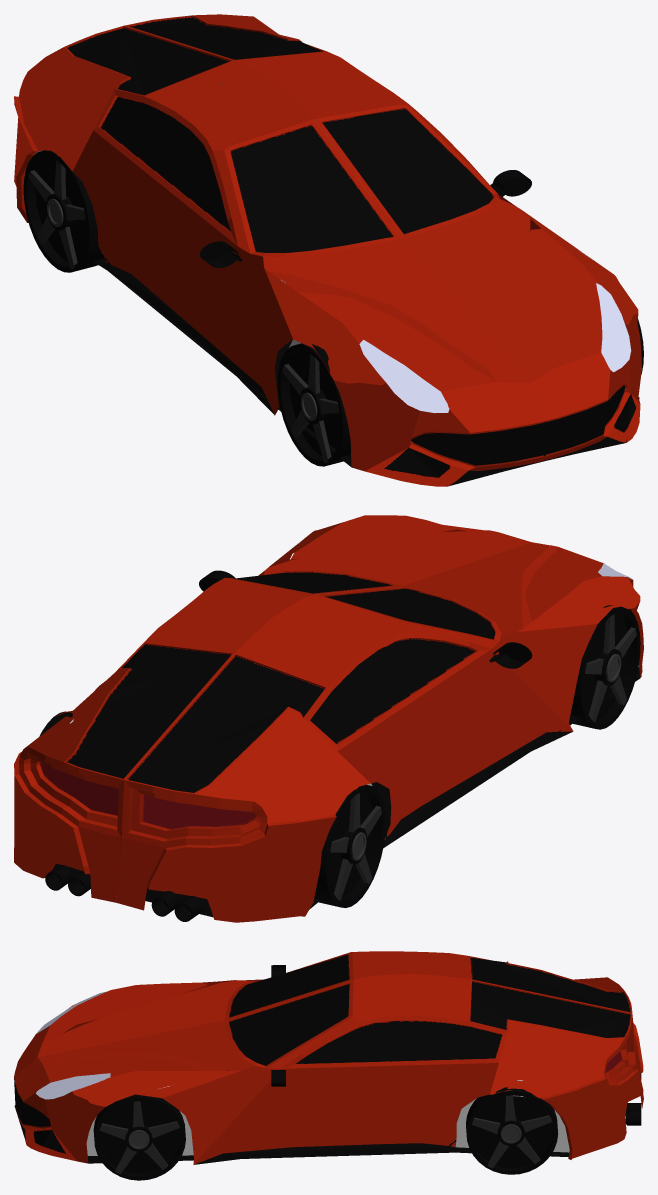
File: SportsCarwithWheels.fbx
The picture shows the model from 3 angles, top to bottom: view 1: azimuth 30°, elevation 25°; view 2: azimuth 150°, elevation 25°; view 3: azimuth 270°, elevation 25°; orthographic projection. The views are drawn at different scales.
Visible parts, largest first — view 1: CarBody, R_R_W, F_R_W; view 2: CarBody, R_R_W, F_R_W; view 3: CarBody, R_L_W, F_L_W.
Boxes of the visible parts, left/top/right/bottom form: CarBody: left=14, top=14, right=641, bottom=486; R_R_W: left=23, top=150, right=103, bottom=272; F_R_W: left=277, top=343, right=350, bottom=466; CarBody: left=14, top=515, right=643, bottom=922; R_R_W: left=314, top=784, right=385, bottom=907; F_R_W: left=570, top=605, right=640, bottom=729; CarBody: left=14, top=951, right=643, bottom=1164; R_L_W: left=466, top=1087, right=558, bottom=1174; F_L_W: left=93, top=1094, right=185, bottom=1180.
Bounding box in the file's own units: 3749 × 2317 × 8657.
